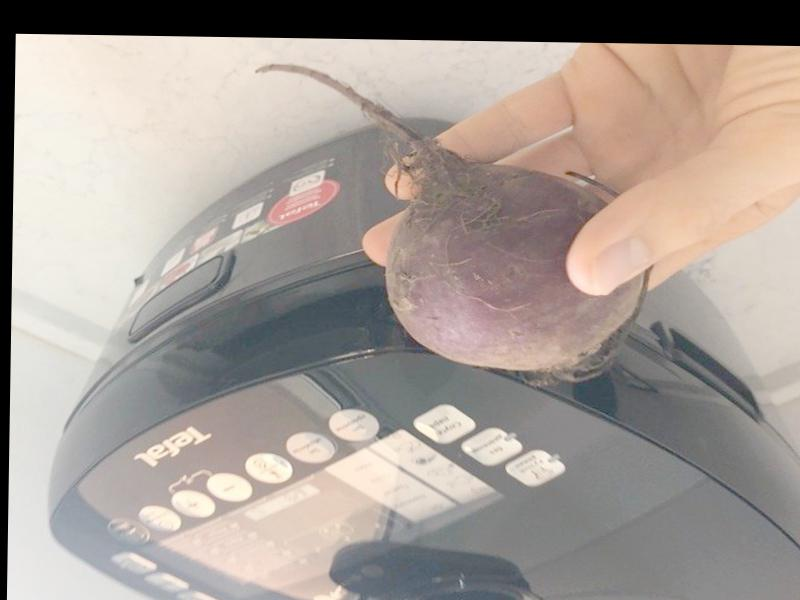Beet: (252, 65, 652, 385)
